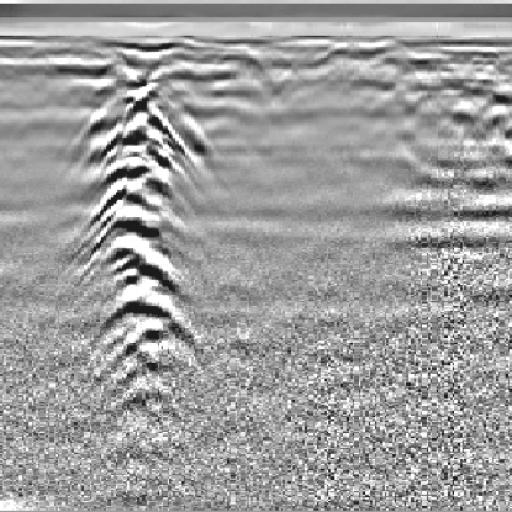metalic: (47, 55, 228, 451)
